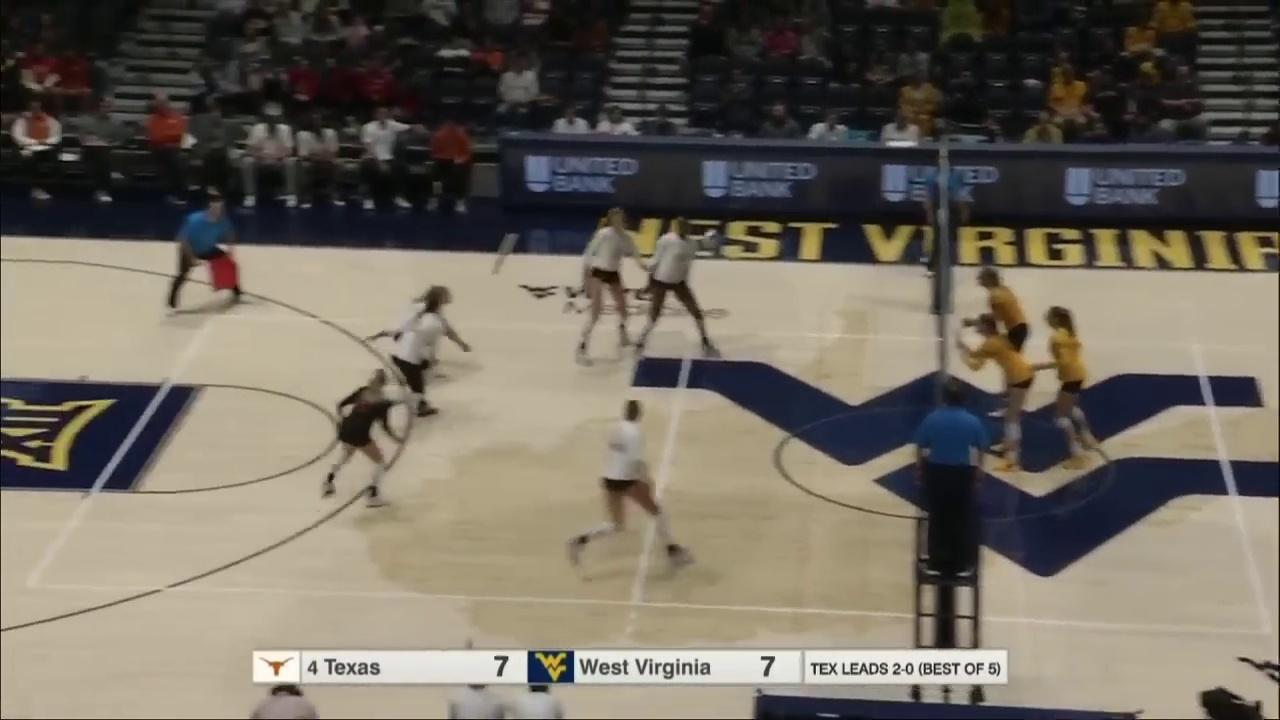player: (563, 393, 699, 568), (632, 219, 727, 365), (577, 205, 647, 366), (319, 366, 398, 508), (1040, 305, 1107, 468), (963, 312, 1030, 468), (367, 280, 455, 382), (975, 262, 1030, 423), (392, 303, 466, 417)
refree: (161, 187, 277, 315), (917, 380, 987, 577), (921, 156, 970, 279)
